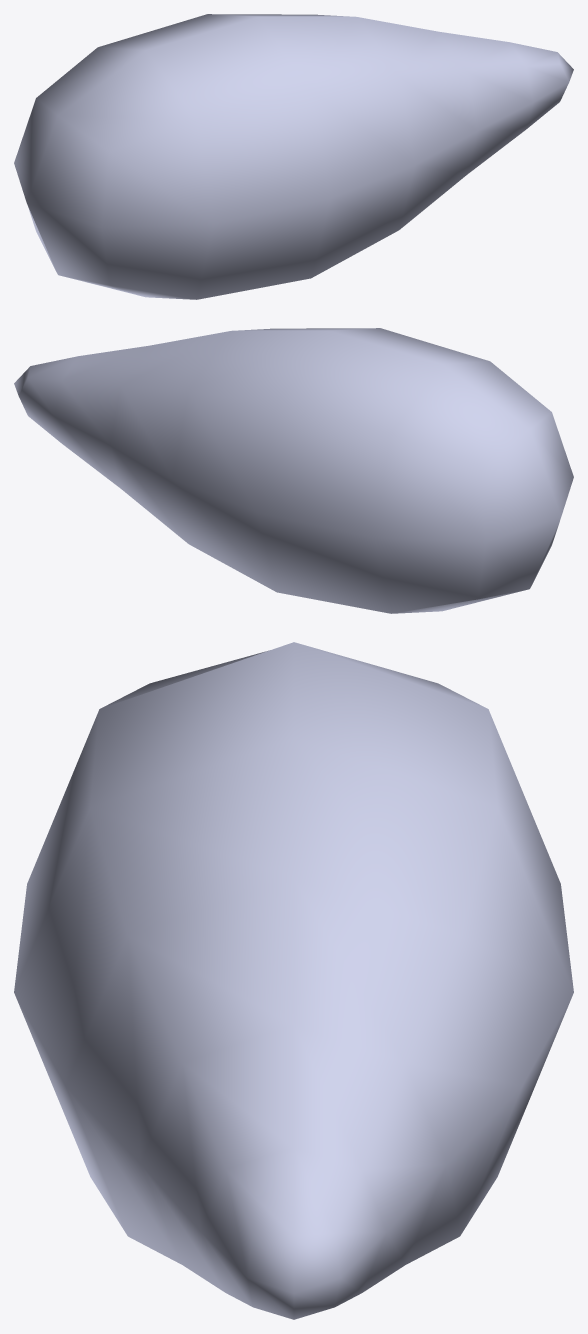
The model's file is Droplet.fbx.
3 views of the same model, one above another, from view 1: azimuth 30°, elevation 25°; view 2: azimuth 150°, elevation 25°; view 3: azimuth 270°, elevation 25° (orthographic). The views are drawn at different scales.
Visible parts, largest first — view 1: Cube.001; view 2: Cube.001; view 3: Cube.001.
Boxes of the visible parts, x1,y1,x2,y2 form: Cube.001: (14, 14, 573, 299); Cube.001: (14, 328, 573, 613); Cube.001: (14, 642, 573, 1319).
Bounding box in the file's own units: 124 × 56.12 × 56.12.
